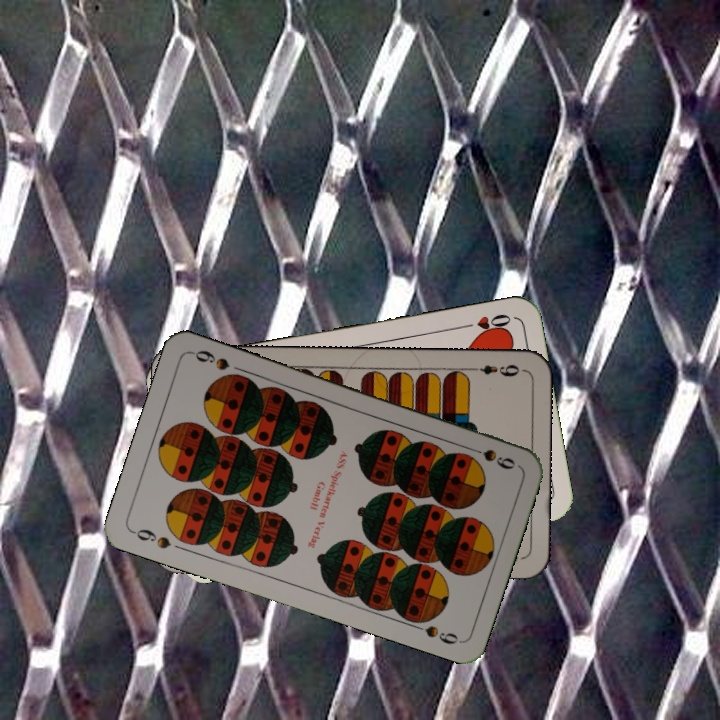E9: (466, 361, 526, 380)
HO: (456, 309, 514, 337)
S9: (462, 442, 517, 472), (128, 524, 174, 552)
